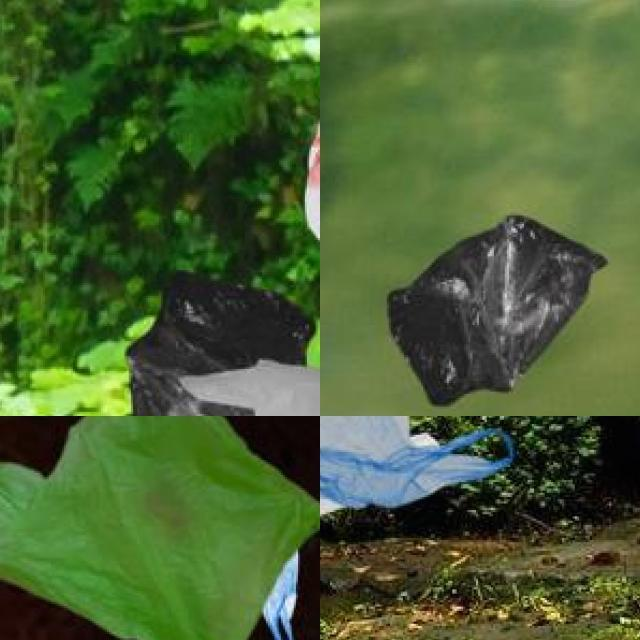waste: (0, 416, 320, 640), (387, 210, 599, 397), (123, 276, 307, 416), (320, 416, 513, 523)
